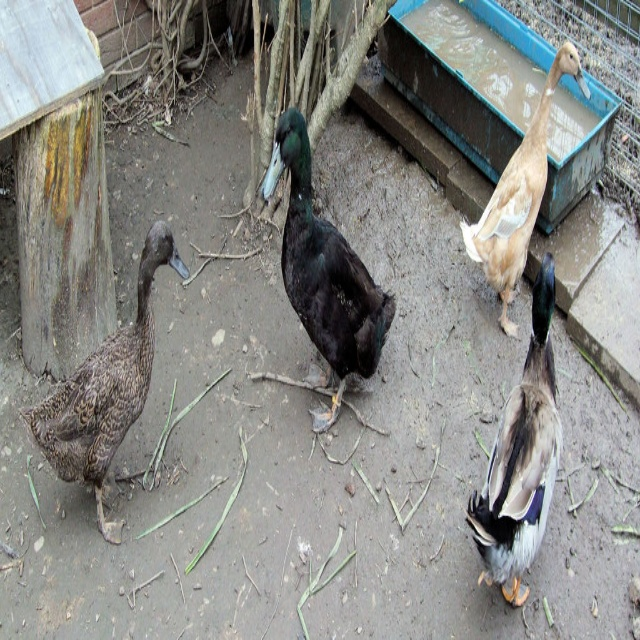Duck: (0, 222, 192, 546), (256, 101, 397, 447), (460, 38, 594, 343), (464, 246, 574, 587)
